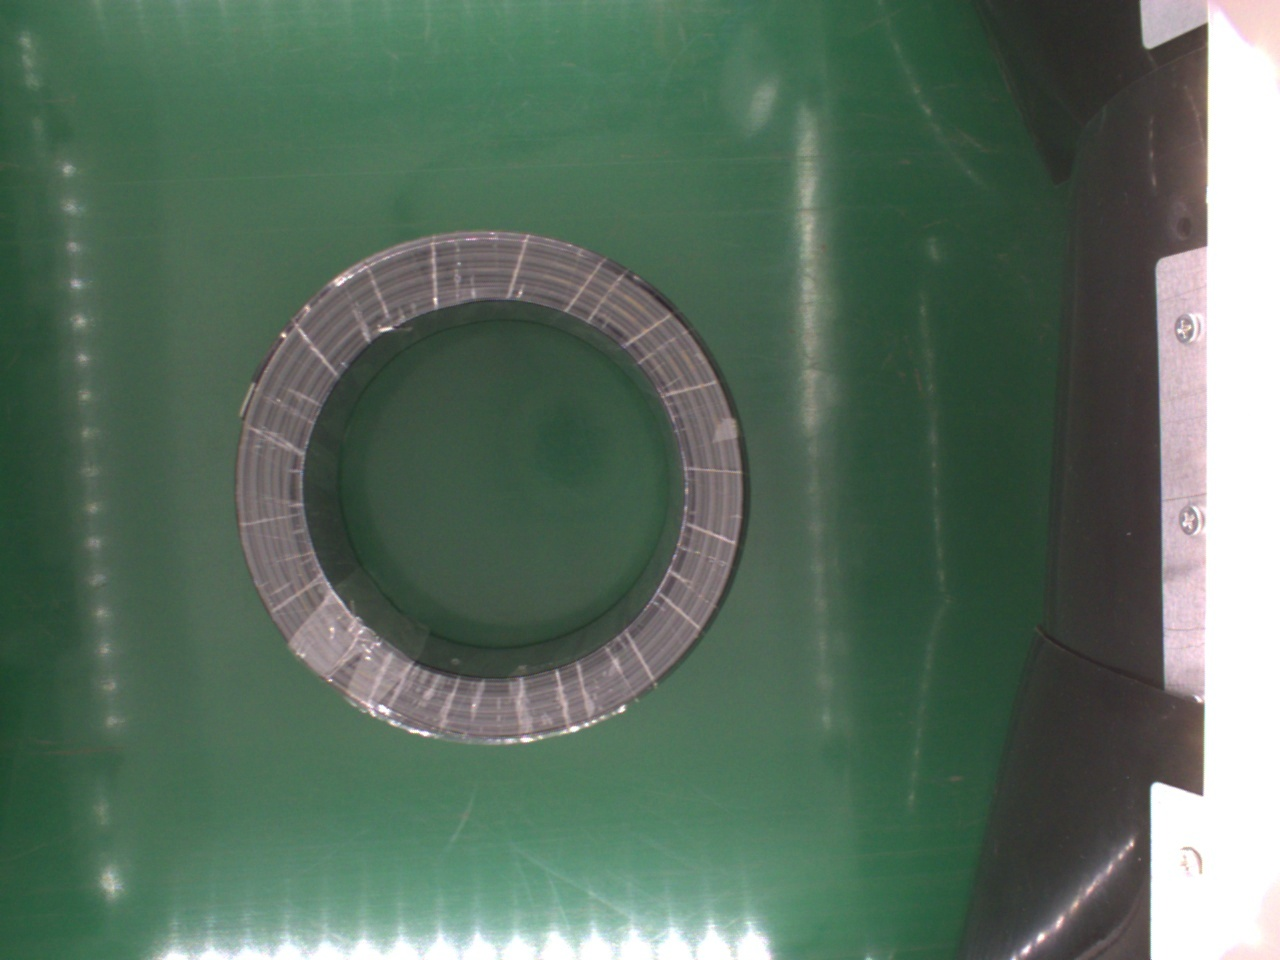black: (230, 230, 742, 746)
